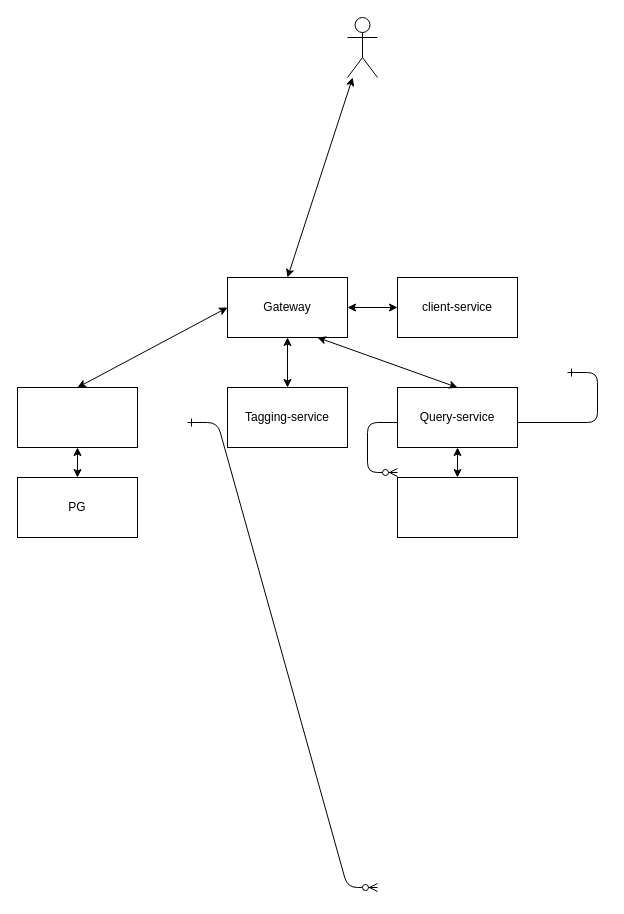
This 624x914 diagram has some shape labels left out. Here are the shapes that lost their labels. From the top down, the centre of each, then its label:
At (362,47): "Actor".
At (77,417): "user-service".
At (457,507): "Mongo".
